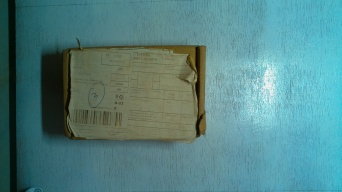a: (54, 37, 218, 151)
